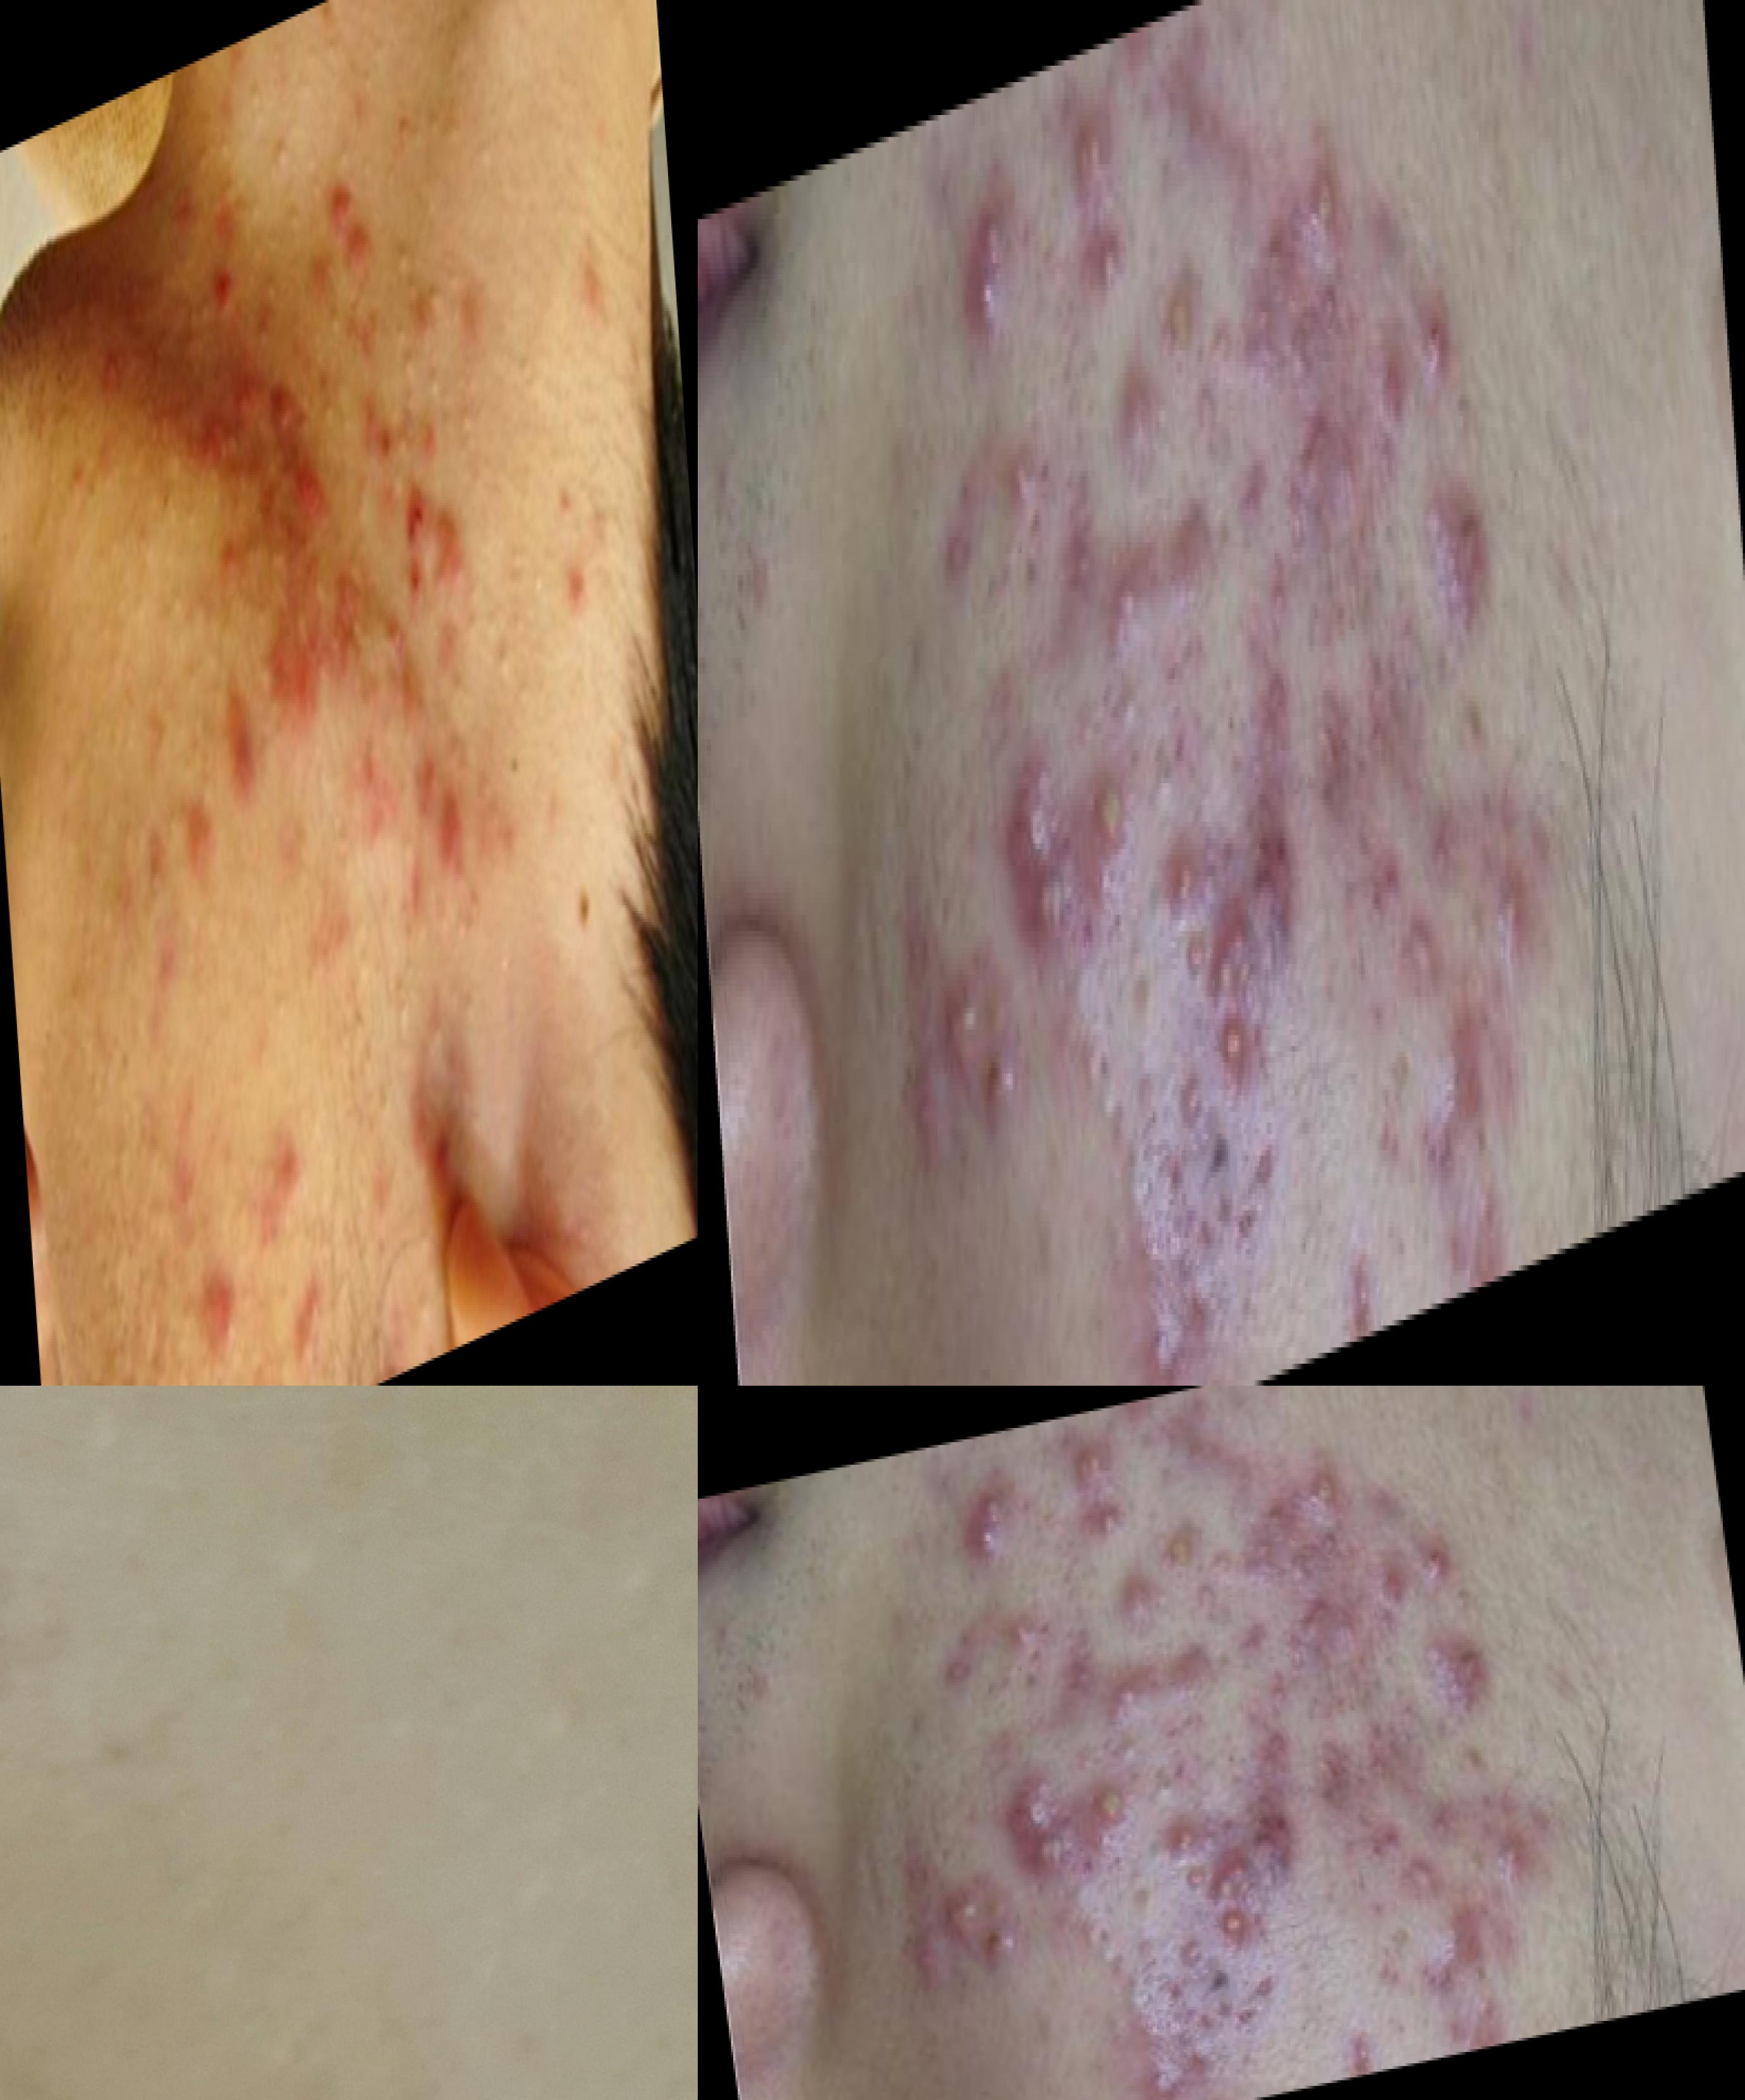blackhead: (1142, 708, 1189, 844), (1142, 1751, 1189, 1821)
papular: (1421, 1022, 1499, 1273), (323, 94, 390, 284), (1386, 869, 1456, 1017), (1421, 1913, 1499, 2042), (248, 1085, 312, 1219), (274, 419, 331, 560), (968, 1017, 1034, 1132), (218, 672, 268, 816), (197, 1231, 249, 1355), (1368, 331, 1414, 464), (396, 447, 432, 602), (1386, 1833, 1456, 1910), (434, 788, 478, 907), (225, 326, 268, 441), (207, 232, 253, 342), (418, 1104, 464, 1210), (968, 1910, 1034, 1969), (188, 788, 221, 891), (1368, 1558, 1414, 1626), (438, 502, 471, 593)
purulent: (997, 417, 1065, 553), (1299, 80, 1348, 262), (1067, 38, 1119, 197), (1485, 858, 1536, 978), (1156, 834, 1210, 942), (1091, 216, 1135, 344), (1090, 743, 1126, 891), (1213, 989, 1257, 1104), (1105, 551, 1152, 654), (997, 1601, 1065, 1671), (1299, 1427, 1348, 1521), (1158, 255, 1196, 370), (1067, 1406, 1119, 1488), (1485, 1828, 1536, 1891), (1156, 1816, 1210, 1872), (1091, 1498, 1135, 1563), (1090, 1769, 1126, 1845), (1213, 1896, 1257, 1955), (1105, 1671, 1152, 1723), (1158, 1517, 1196, 1577)
sebo-crystan-conglo: (1250, 269, 1361, 537), (1001, 699, 1091, 994), (1205, 787, 1309, 989), (1416, 427, 1497, 663), (955, 171, 1037, 363), (1250, 1524, 1361, 1664), (1001, 1746, 1091, 1899), (1205, 1791, 1309, 1896), (1416, 1606, 1497, 1728), (1123, 1259, 1199, 1387), (955, 1474, 1037, 1573), (938, 931, 994, 1069), (1417, 283, 1466, 398), (1123, 2035, 1199, 2100), (938, 1866, 994, 1936), (1417, 1531, 1466, 1591)
whitehead: (478, 581, 523, 698), (384, 942, 420, 1069), (472, 94, 516, 199), (106, 1088, 145, 1197), (160, 544, 202, 640), (397, 1259, 439, 1355), (288, 1273, 323, 1387), (417, 991, 458, 1074), (387, 206, 427, 291), (450, 956, 486, 1048), (525, 506, 553, 623), (343, 445, 382, 525), (453, 384, 490, 462), (417, 340, 450, 422), (314, 277, 347, 352), (345, 1026, 378, 1101), (265, 108, 298, 178)
